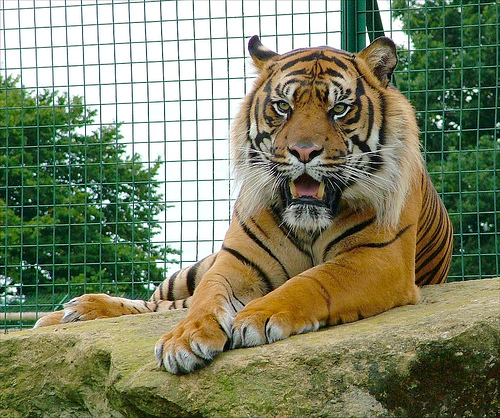Tigre: (214, 32, 425, 286)
